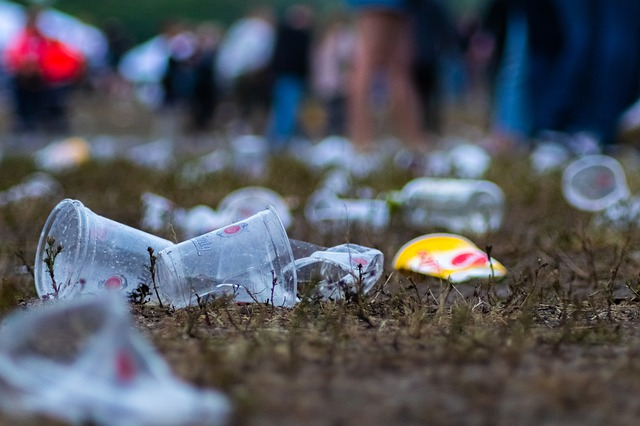cup: (151, 202, 301, 320), (27, 189, 160, 296)
